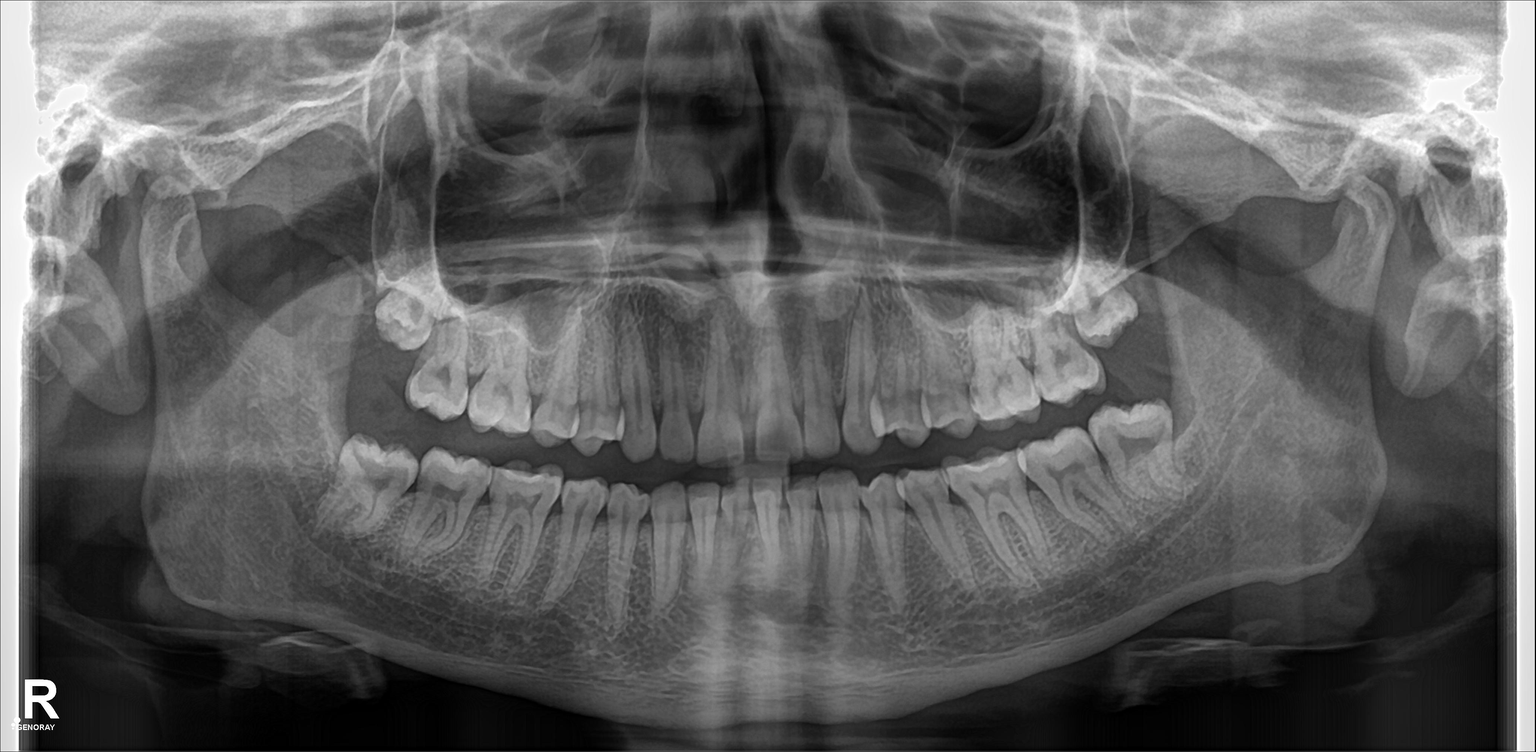Impacted Third Molar: (1071, 270, 1132, 335), (367, 296, 432, 355)
